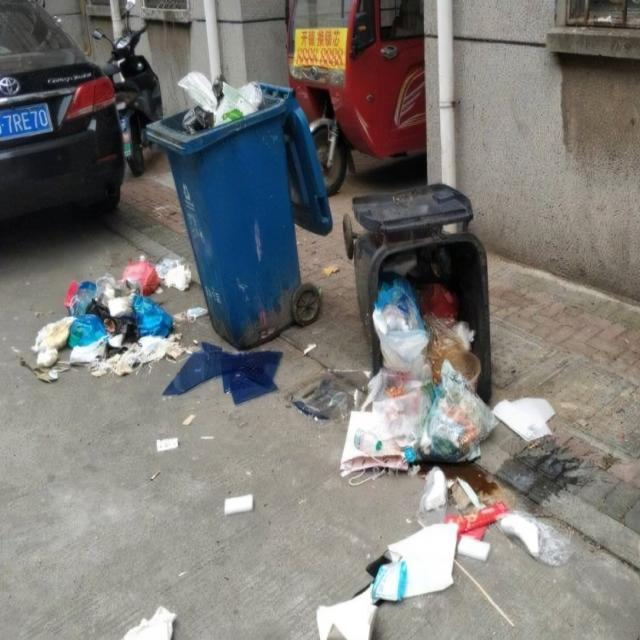garbage: (293, 259, 555, 639), (17, 258, 284, 404)
overflow: (143, 71, 301, 351)
